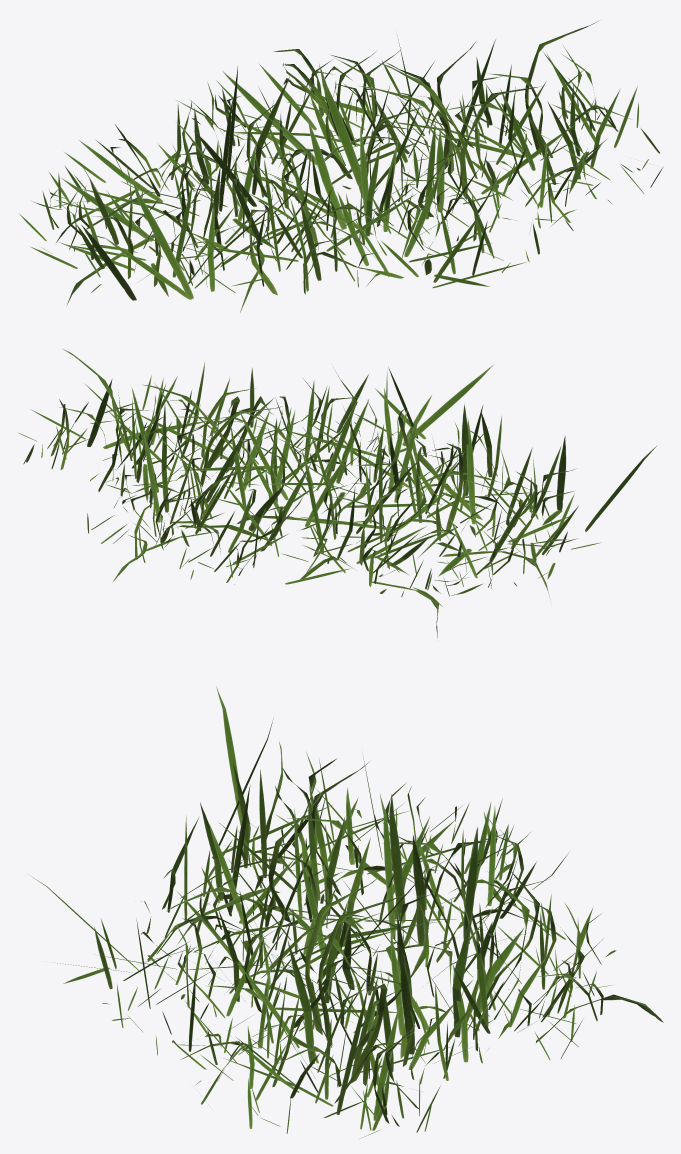
Rendered from Grass_Dry_01.glb.
The picture shows the model from 3 angles, top to bottom: view 1: azimuth 30°, elevation 25°; view 2: azimuth 150°, elevation 25°; view 3: azimuth 270°, elevation 25°; orthographic projection. The views are drawn at different scales.
Visible parts, largest first — view 1: Grass_Dry_01; view 2: Grass_Dry_01; view 3: Grass_Dry_01.
Boxes of the visible parts, x1=… form: Grass_Dry_01: x1=18, y1=20, x2=662, y2=312; Grass_Dry_01: x1=17, y1=348, x2=657, y2=640; Grass_Dry_01: x1=31, y1=686, x2=663, y2=1138.
Size of the model in its own units: 1.17 by 0.3 by 0.9151.
Materials: 1 (1 with a texture image).
